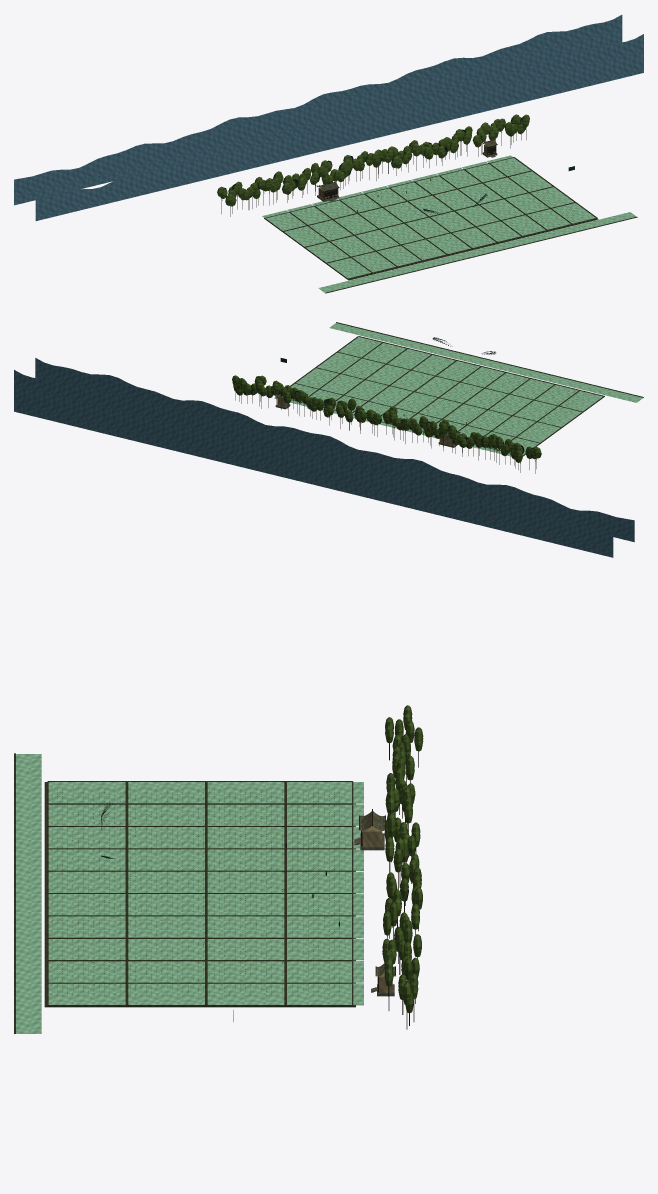
The model's file is JingXi_Aligned_Spring.glb.
3 views of the same model, one above another, from view 1: azimuth 30°, elevation 25°; view 2: azimuth 150°, elevation 25°; view 3: azimuth 270°, elevation 25° (orthographic). The views are drawn at different scales.
Parts seen in each view (by area): view 1: Spring_MountainRidge_mountain, Spring_PaddyWater_water, Spring_TreeCrowns_crown, Spring_YuquanCanal_water, Spring_FieldEarth_earth, Spring_CrossBanks_earth, Spring_FieldBanks_earth, Spring_TreeTrunks_wood, Spring_NearBank_earth, Spring_TreeCrowns_leaf; view 2: Spring_MountainRidge_mountain, Spring_PaddyWater_water, Spring_TreeCrowns_crown, Spring_YuquanCanal_water, Spring_FieldBanks_earth, Spring_CrossBanks_earth, Spring_FieldEarth_earth, Spring_TreeTrunks_wood, Spring_NearBank_earth, Spring_TreeCrowns_leaf; view 3: Spring_PaddyWater_water, Spring_TreeCrowns_crown, Spring_YuquanCanal_water, Spring_FieldBanks_earth, Spring_FieldEarth_earth, Spring_Rice_Blades_light, Spring_CrossBanks_earth, Spring_Rice_Blades_rice.
Boxes of the visible parts, box(x1,y1,x2,y2) form: Spring_MountainRidge_mountain: box(14, 15, 643, 220); Spring_PaddyWater_water: box(262, 155, 595, 278); Spring_TreeCrowns_crown: box(217, 114, 529, 206); Spring_YuquanCanal_water: box(318, 212, 636, 292); Spring_FieldEarth_earth: box(264, 157, 598, 280); Spring_CrossBanks_earth: box(265, 157, 596, 278); Spring_FieldBanks_earth: box(264, 157, 597, 278); Spring_TreeTrunks_wood: box(221, 129, 526, 216); Spring_NearBank_earth: box(325, 216, 637, 293); Spring_TreeCrowns_leaf: box(224, 117, 524, 205); Spring_MountainRidge_mountain: box(14, 358, 634, 557); Spring_PaddyWater_water: box(274, 337, 602, 456); Spring_TreeCrowns_crown: box(232, 375, 541, 462); Spring_YuquanCanal_water: box(329, 323, 642, 402); Spring_FieldBanks_earth: box(290, 336, 604, 455); Spring_CrossBanks_earth: box(291, 336, 603, 453); Spring_FieldEarth_earth: box(291, 336, 604, 456); Spring_TreeTrunks_wood: box(235, 390, 536, 473); Spring_NearBank_earth: box(336, 322, 643, 397); Spring_TreeCrowns_leaf: box(235, 376, 541, 458); Spring_PaddyWater_water: box(48, 782, 363, 1005); Spring_TreeCrowns_crown: box(382, 705, 423, 1013); Spring_YuquanCanal_water: box(16, 754, 41, 1033); Spring_FieldBanks_earth: box(48, 781, 352, 1006); Spring_FieldEarth_earth: box(44, 782, 355, 1007); Spring_Rice_Blades_light: box(51, 789, 345, 995); Spring_CrossBanks_earth: box(47, 781, 353, 1005); Spring_Rice_Blades_rice: box(51, 789, 345, 995).
Bounding box in the file's own units: 195 × 13.26 × 95.15.
15 materials, 15 textured.
